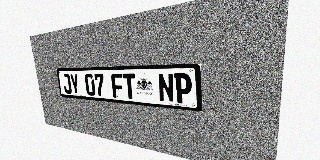0: (84, 74, 96, 96)
7: (93, 74, 106, 97)
F: (111, 73, 124, 98)
J: (62, 74, 72, 94)
N: (158, 73, 174, 103)
P: (174, 73, 192, 104)
T: (122, 73, 137, 99)
Y: (69, 74, 80, 95)
